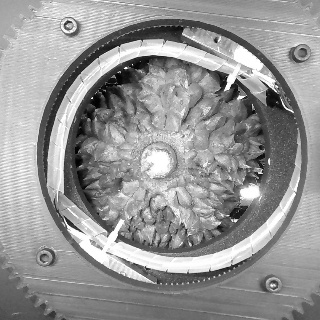base: (130, 130, 187, 181)
end: (144, 148, 172, 179)
